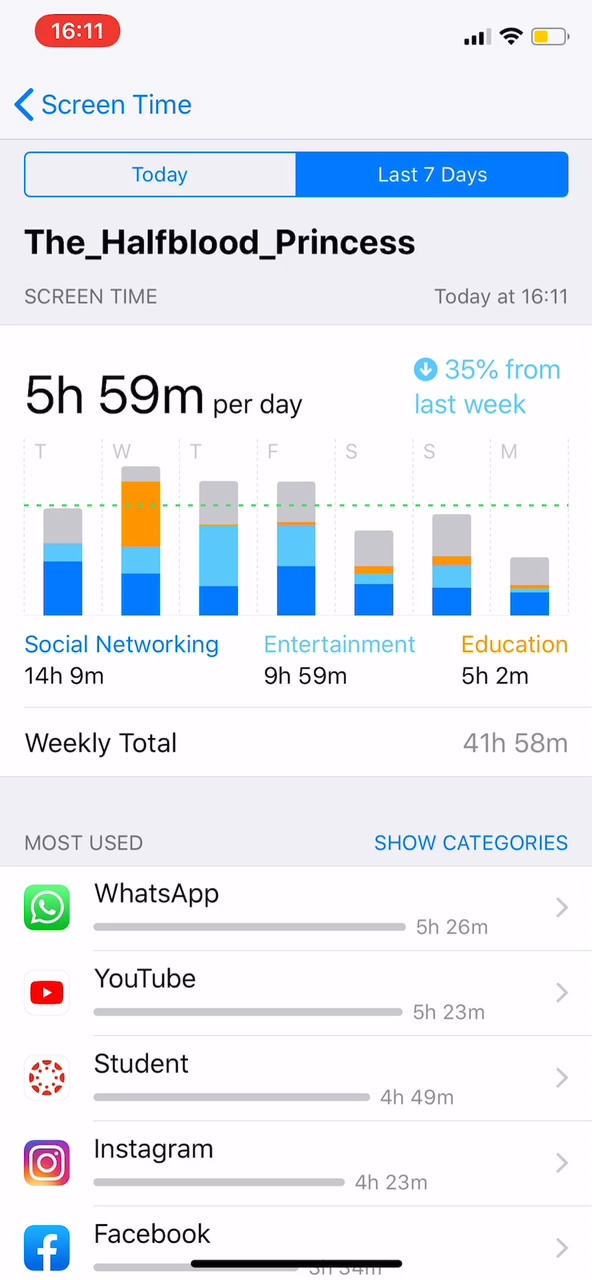use_over: (18, 625, 586, 764)
